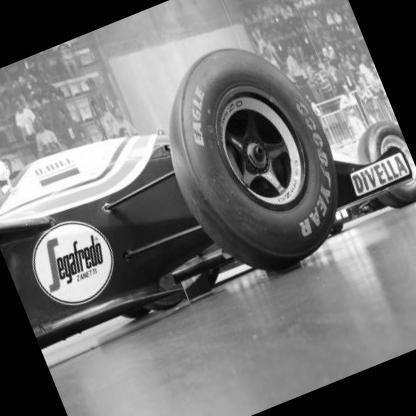car: (1, 1, 416, 369)
